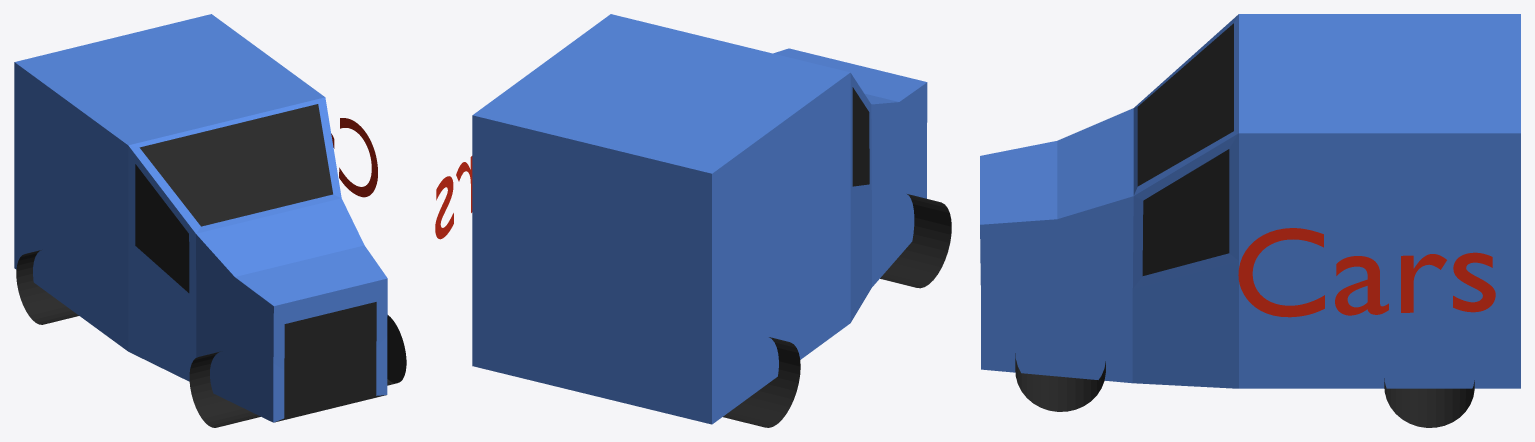
File: car.glb
3 renders of one model, left to right at view 1: azimuth 30°, elevation 25°; view 2: azimuth 150°, elevation 25°; view 3: azimuth 270°, elevation 25°, orthographic. The views are drawn at different scales.
Visible parts, largest first — view 1: Cube, Text; view 2: Cube, Text; view 3: Cube, Text.
Part boxes in pixels (x1,y1,x2,y2): Cube: [14, 14, 406, 427]; Text: [331, 118, 377, 197]; Cube: [472, 14, 951, 427]; Text: [435, 156, 472, 239]; Cube: [980, 14, 1520, 427]; Text: [1238, 228, 1495, 317].
Size of the model in its own units: 2.72 by 2.22 by 3.84.
